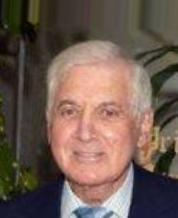face: (58, 98, 125, 164)
